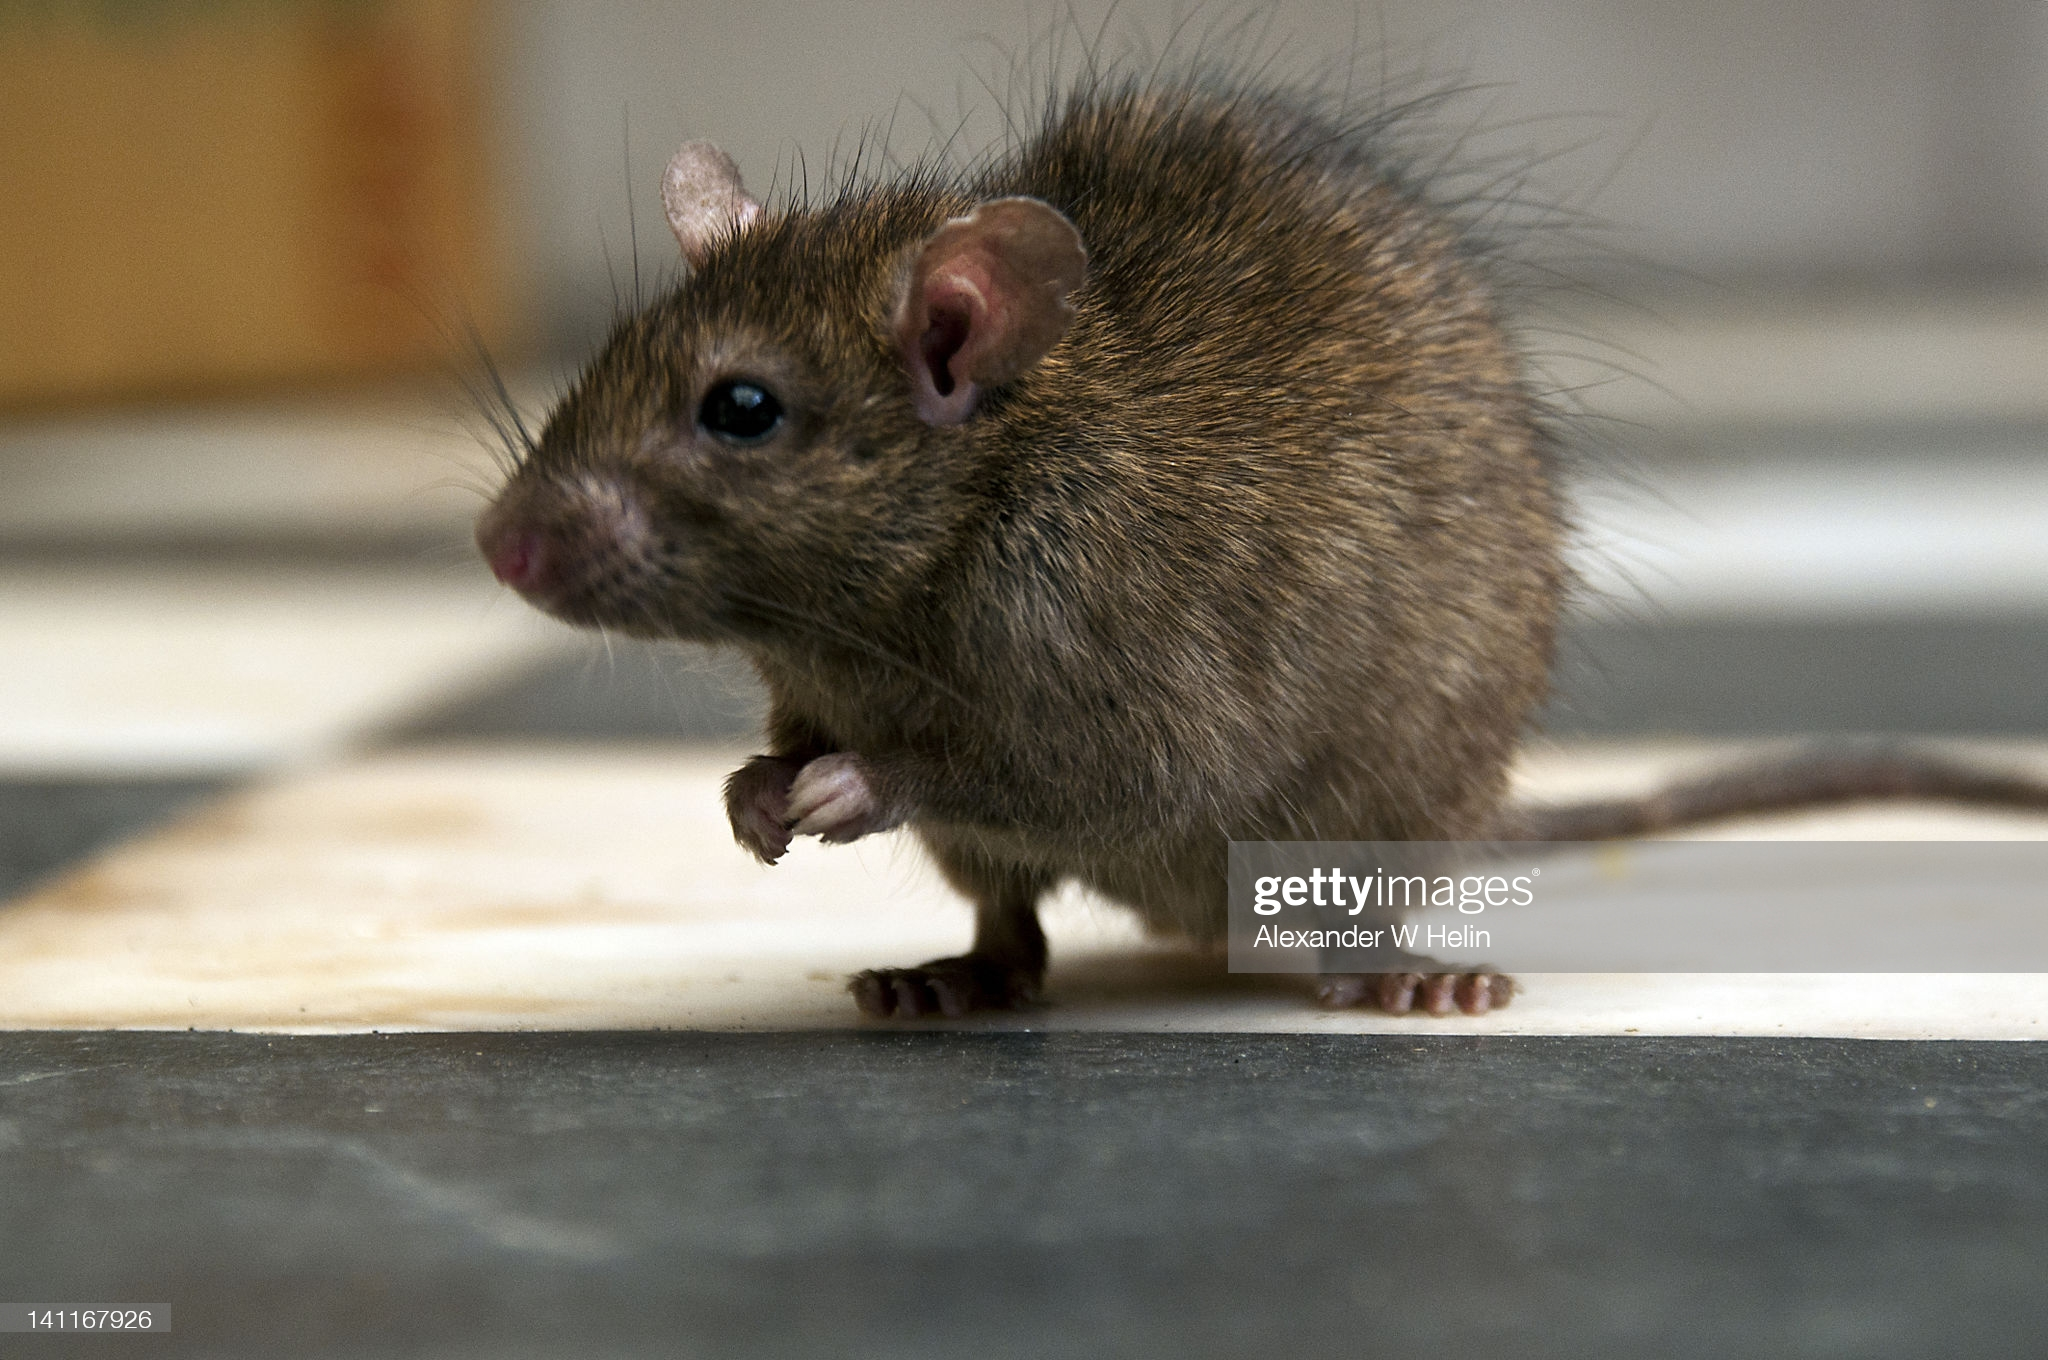mouse: (455, 61, 1613, 829)
